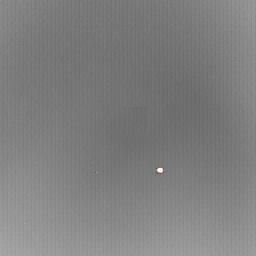Target: (155, 165, 164, 174)
